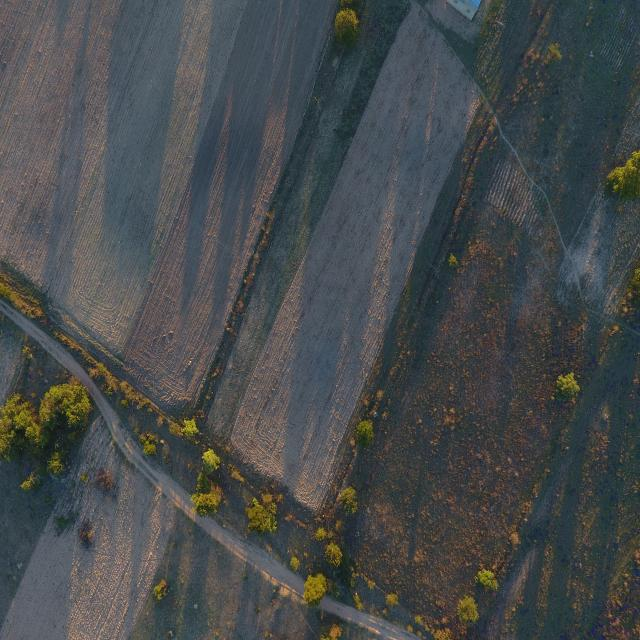boundaries: (6, 15, 564, 586)
